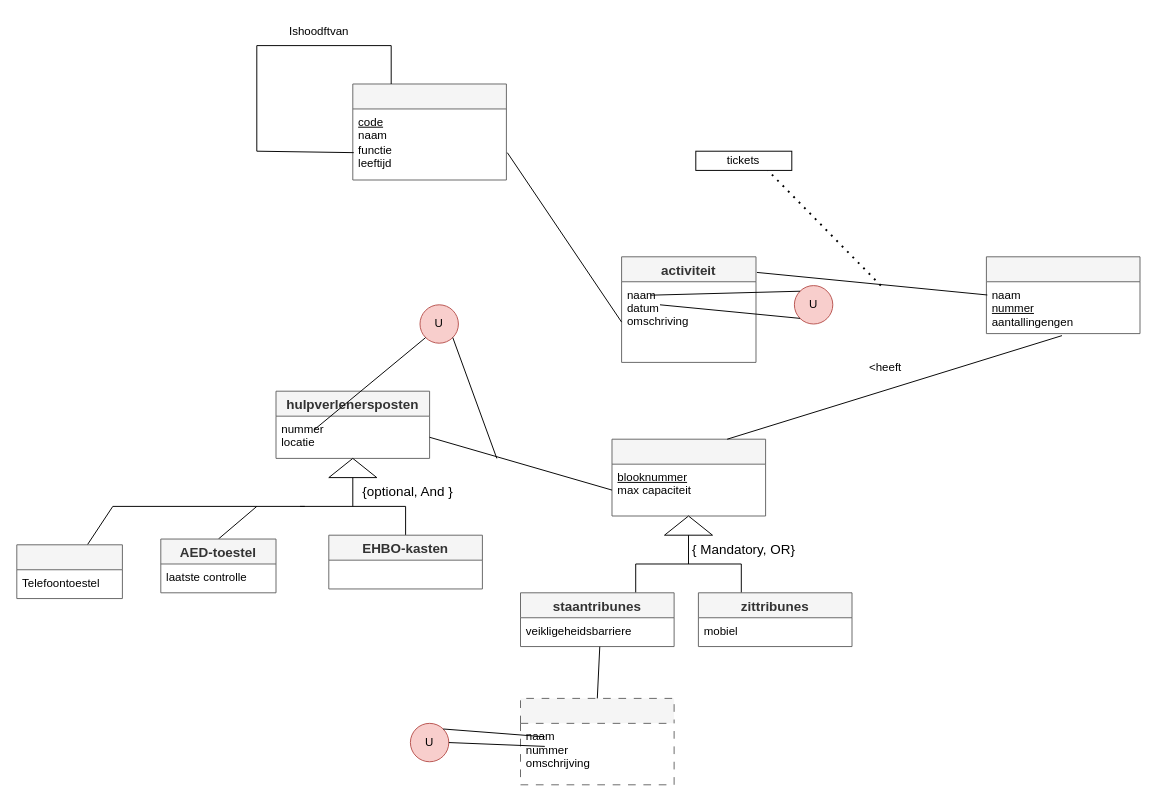
This 1157x804 diagram has some shape labels left out. The box of each missing label's shape, as (x1, y1, x2, y2) in pixels:
Bemande EHBO: (16, 544, 122, 599)
Hulpverlenners: (352, 83, 506, 180)
stadion: (985, 256, 1140, 334)
Tribuneblokken: (611, 438, 766, 516)
verzamelpunt: (520, 697, 674, 785)
